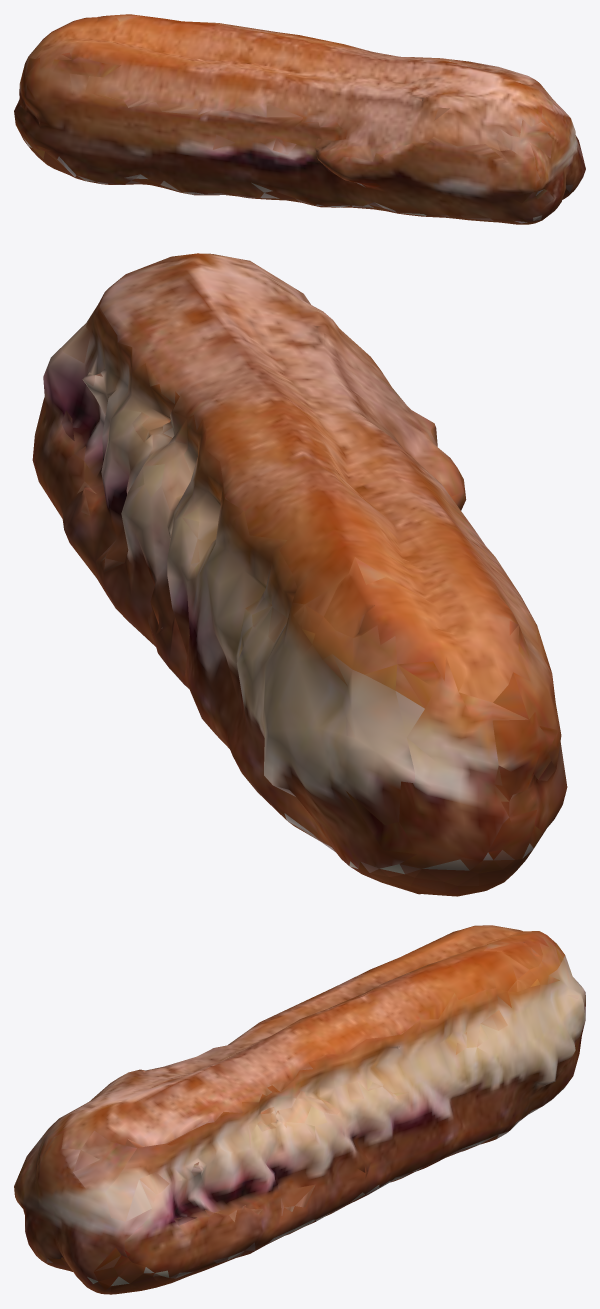
Rendered from eclaire_2624.obj.
3 renders of one model, top to bottom at view 1: azimuth 30°, elevation 25°; view 2: azimuth 150°, elevation 25°; view 3: azimuth 270°, elevation 25°, orthographic. The views are drawn at different scales.
Size of the model in its own units: 93.83 by 31.66 by 91.26.
Materials: 1 (1 with a texture image).
